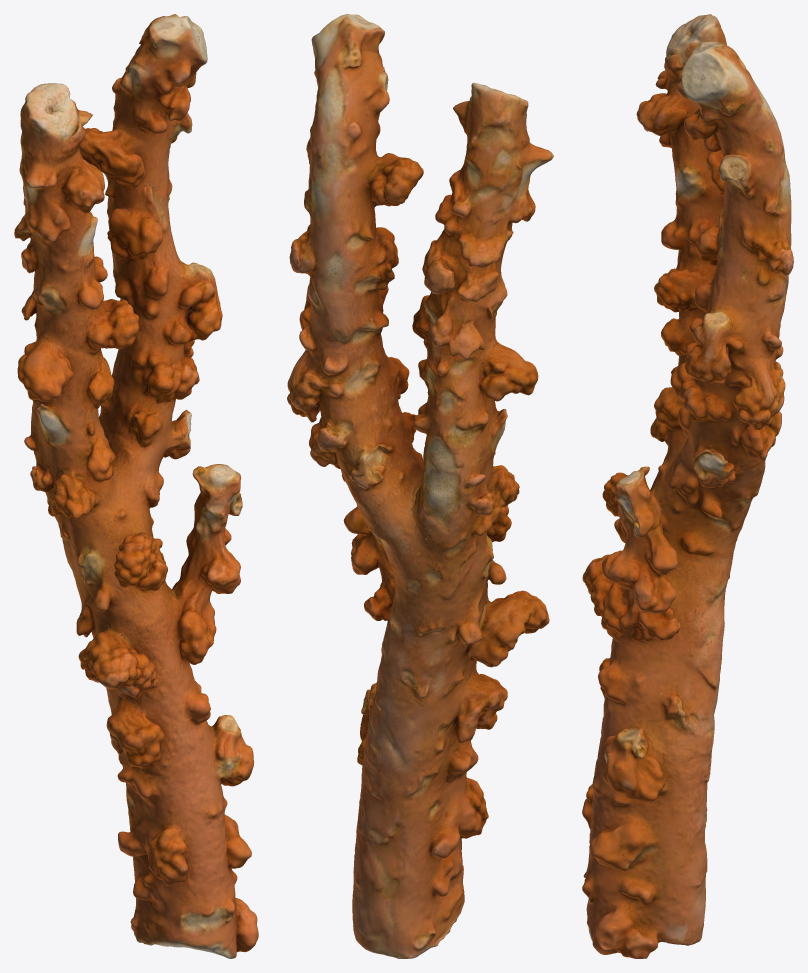
3 renders of one model, left to right at view 1: azimuth 30°, elevation 25°; view 2: azimuth 150°, elevation 25°; view 3: azimuth 270°, elevation 25°, orthographic. The views are drawn at different scales.
Parts seen in each view (by area): view 1: orientacao; view 2: orientacao; view 3: orientacao.
Boxes of the visible parts, box(x1,y1,x2,y2) form: orientacao: box(14, 14, 258, 958); orientacao: box(287, 14, 553, 958); orientacao: box(582, 14, 793, 958).
Bounding box in the file's own units: 3411 × 13672 × 2906.
1 material, 1 textured.
